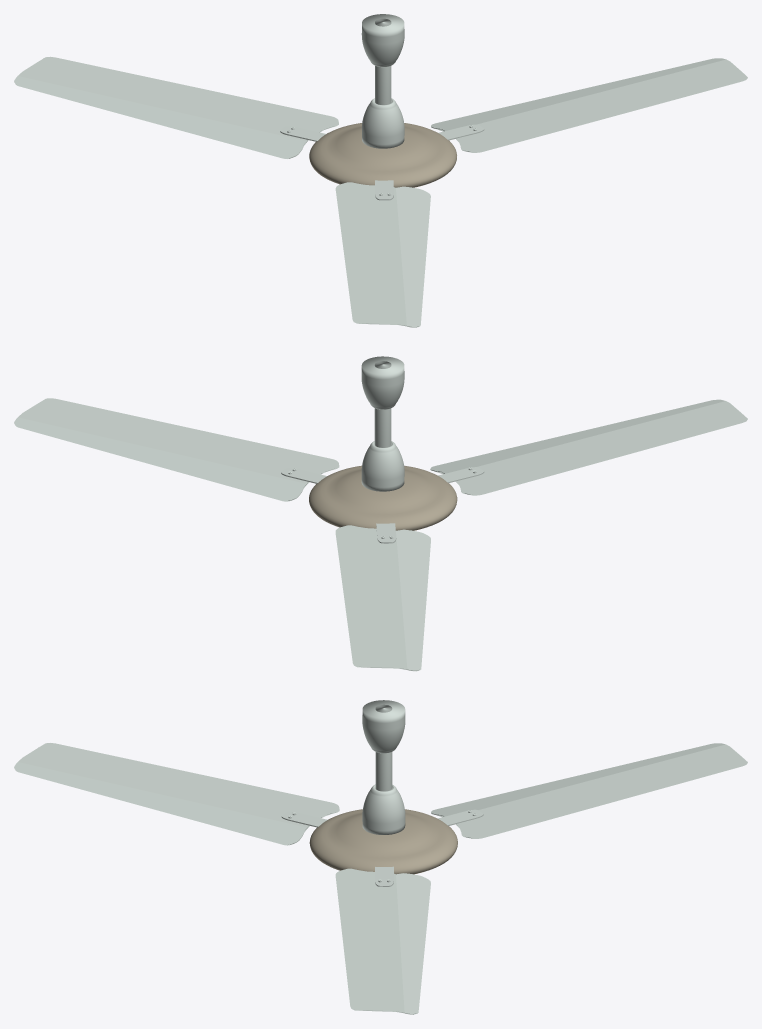
Rendered from Fan.fbx.
3 views of the same model, one above another, from view 1: azimuth 30°, elevation 25°; view 2: azimuth 150°, elevation 25°; view 3: azimuth 270°, elevation 25° (orthographic).
Visible parts, largest first — view 1: Plane.008, Plane.009, Plane.007, Sphere.002, Cone.005, Cone.004, Cylinder.002; view 2: Plane.007, Plane.008, Plane.009, Sphere.002, Cone.005, Cone.004, Cylinder.002; view 3: Plane.009, Plane.007, Plane.008, Sphere.002, Cone.005, Cone.004, Cylinder.002.
Part boxes in pixels (x1,y1,x2,y2): Plane.008: (14,56,338,158); Plane.009: (335,182,430,327); Plane.007: (431,58,747,152); Sphere.002: (309,123,456,187); Cone.005: (361,14,404,67); Cone.004: (361,98,404,148); Cylinder.002: (375,18,391,104); Plane.007: (14,398,339,501); Plane.008: (335,525,430,671); Plane.009: (430,399,747,495); Sphere.002: (309,465,457,530); Cone.005: (361,356,404,409); Cone.004: (361,441,404,491); Cylinder.002: (374,361,391,447); Plane.009: (14,743,339,845); Plane.007: (335,868,430,1014); Plane.008: (431,743,747,838); Sphere.002: (309,809,457,874); Cone.005: (362,700,405,753); Cone.004: (362,784,405,834); Cylinder.002: (375,704,392,791).
Bounding box in the file's own units: 856 × 219 × 977.
